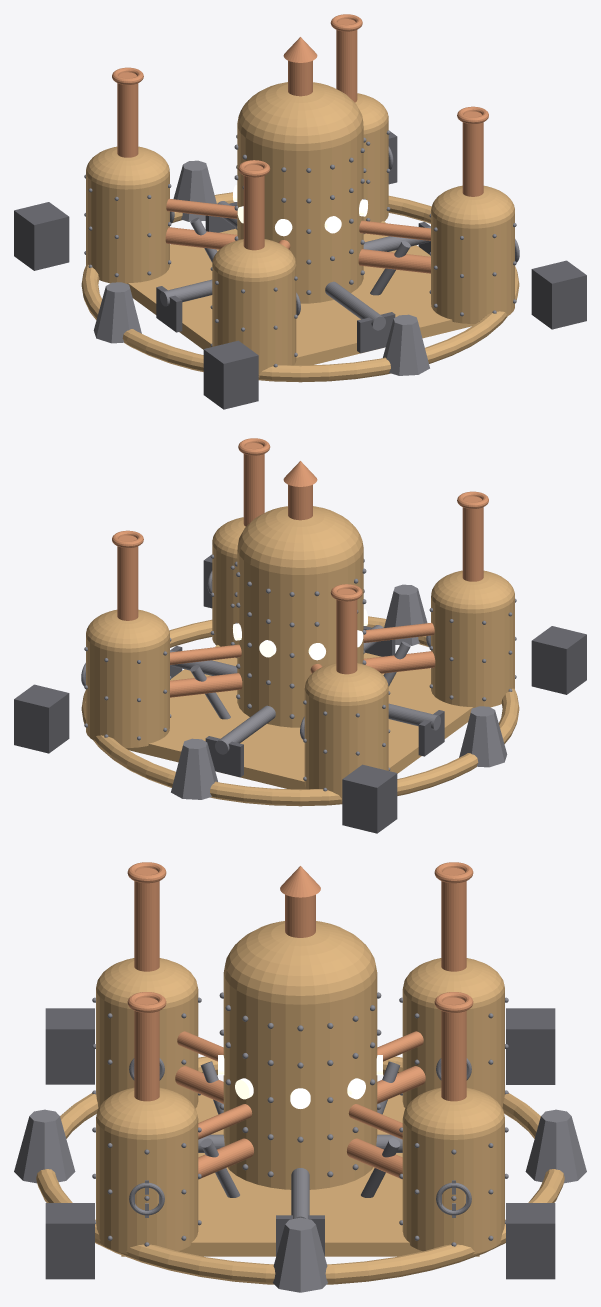
File: SteampunkSteamCollector.fbx
3 views of the same model, one above another, from view 1: azimuth 30°, elevation 25°; view 2: azimuth 150°, elevation 25°; view 3: azimuth 270°, elevation 25° (orthographic). The views are drawn at different scales.
Visible parts, largest first — view 1: SteampunkSteamCollector; view 2: SteampunkSteamCollector; view 3: SteampunkSteamCollector.
Part boxes in pixels (x1,y1,x2,y2): SteampunkSteamCollector: [14, 14, 586, 409]; SteampunkSteamCollector: [14, 438, 586, 833]; SteampunkSteamCollector: [14, 862, 586, 1292].
Size of the model in its own units: 11.2 by 6.94 by 11.2.
